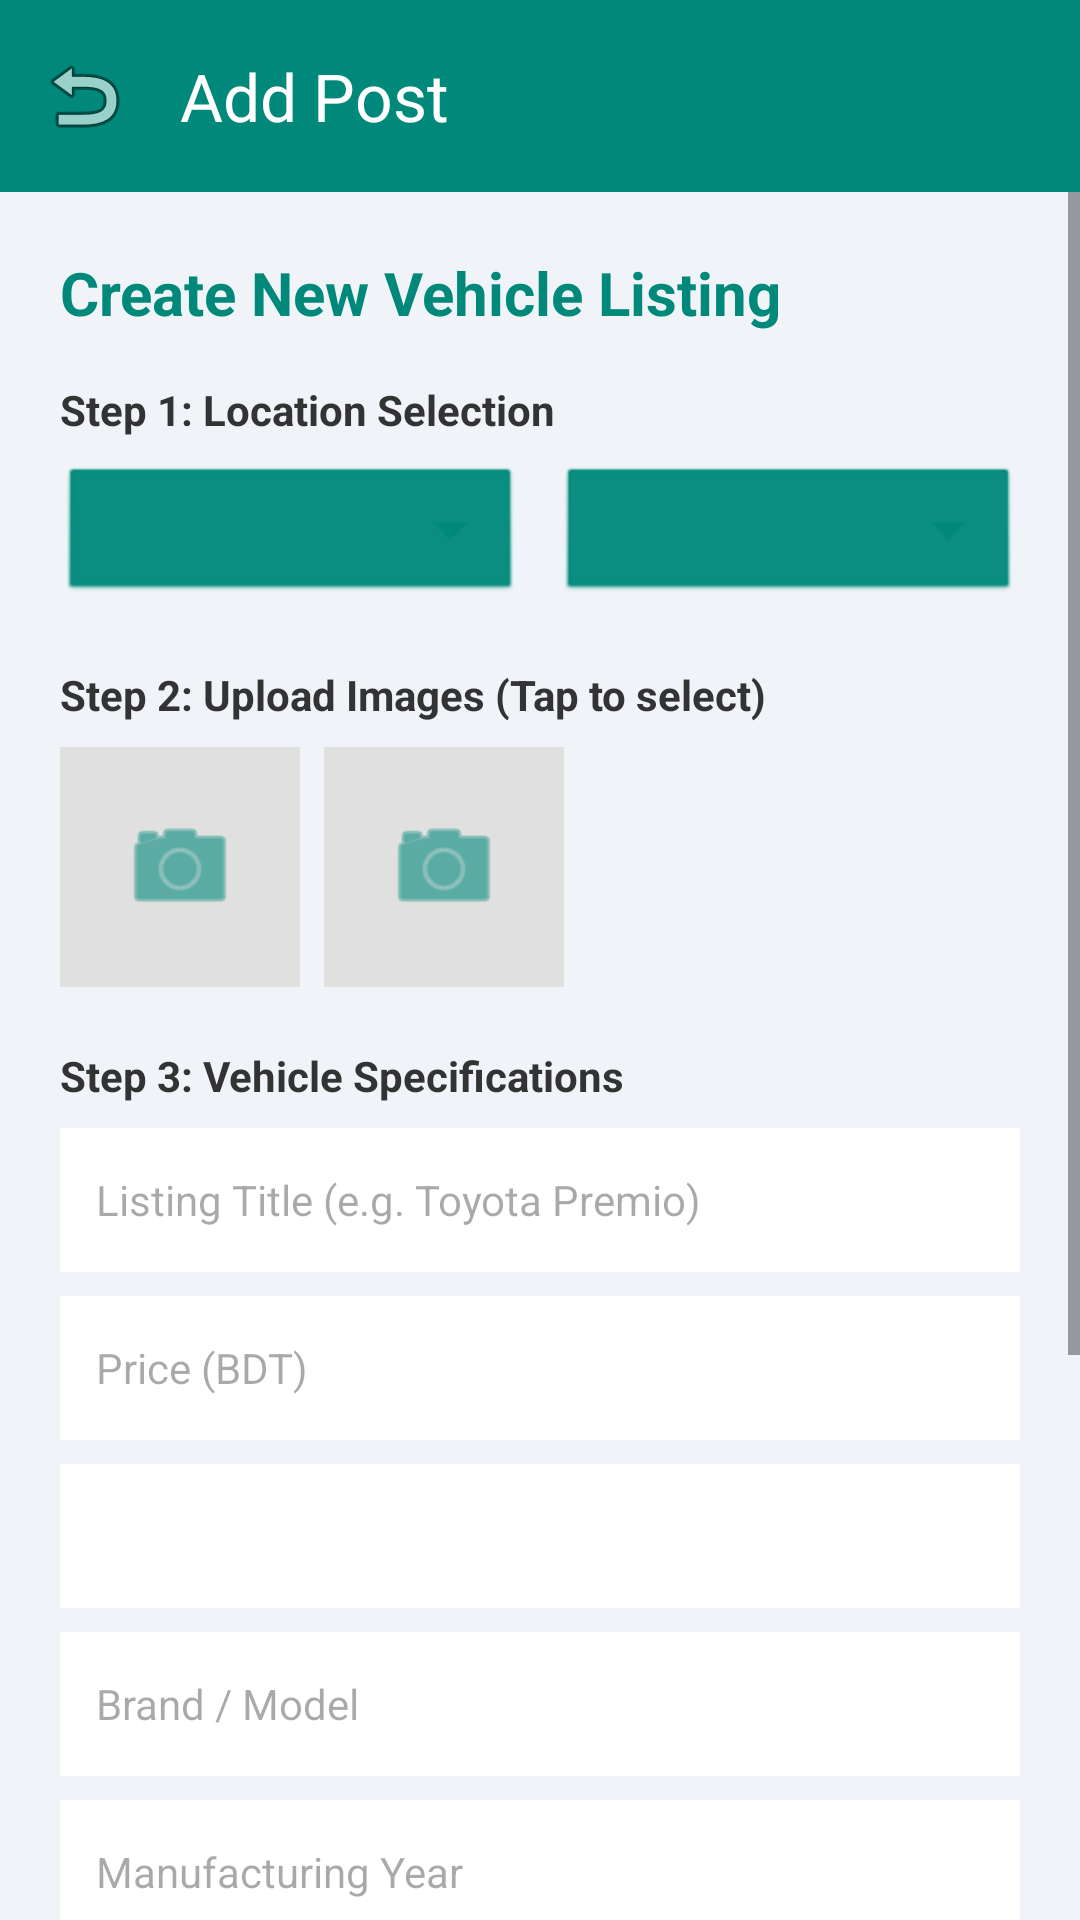

Screen size 1080px×1920px. Icon name, then its center in pixels as (x=x, y=y):
camera: (x=180, y=865), (x=444, y=865)
